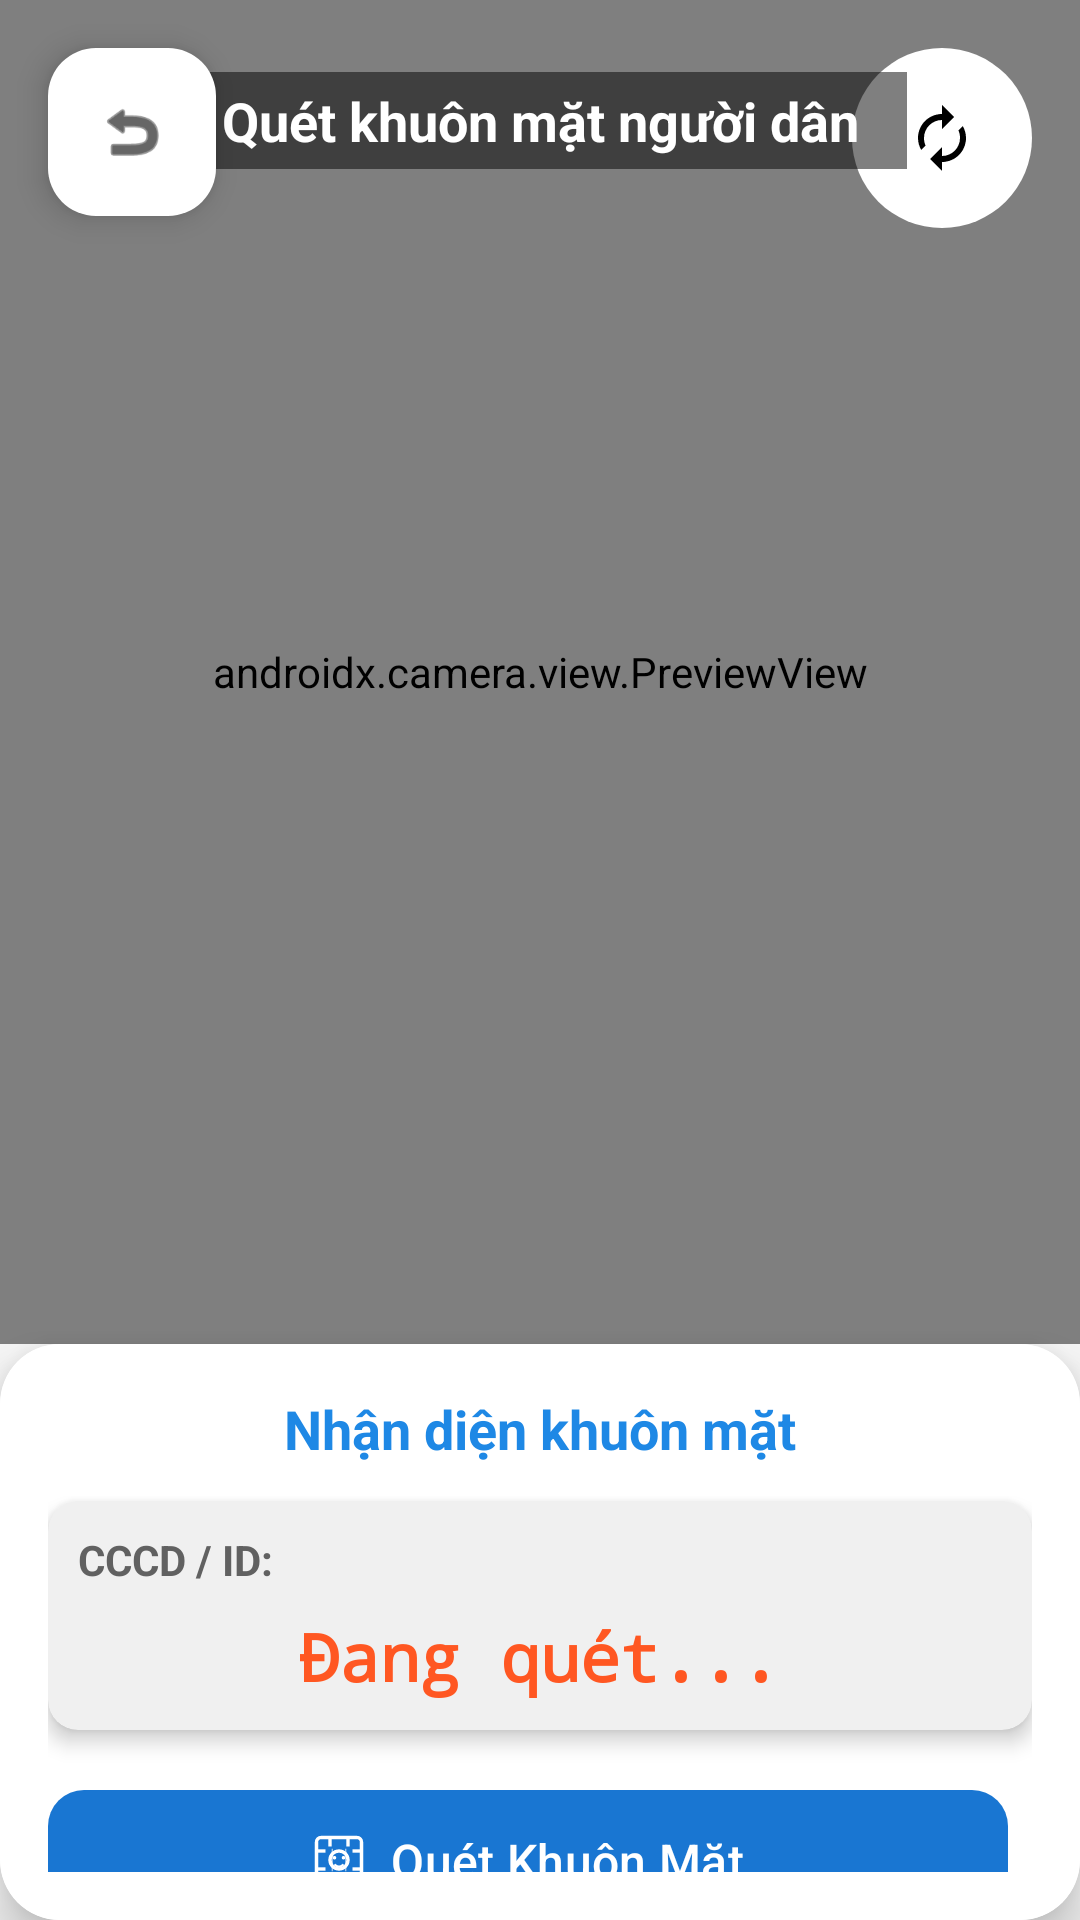

Locate icon controls on the screen. Image size 1080*1920, boxes as [x1, y1, x2, y2].
revert: [48, 48, 216, 216]
switch camera: [852, 48, 1032, 228]
